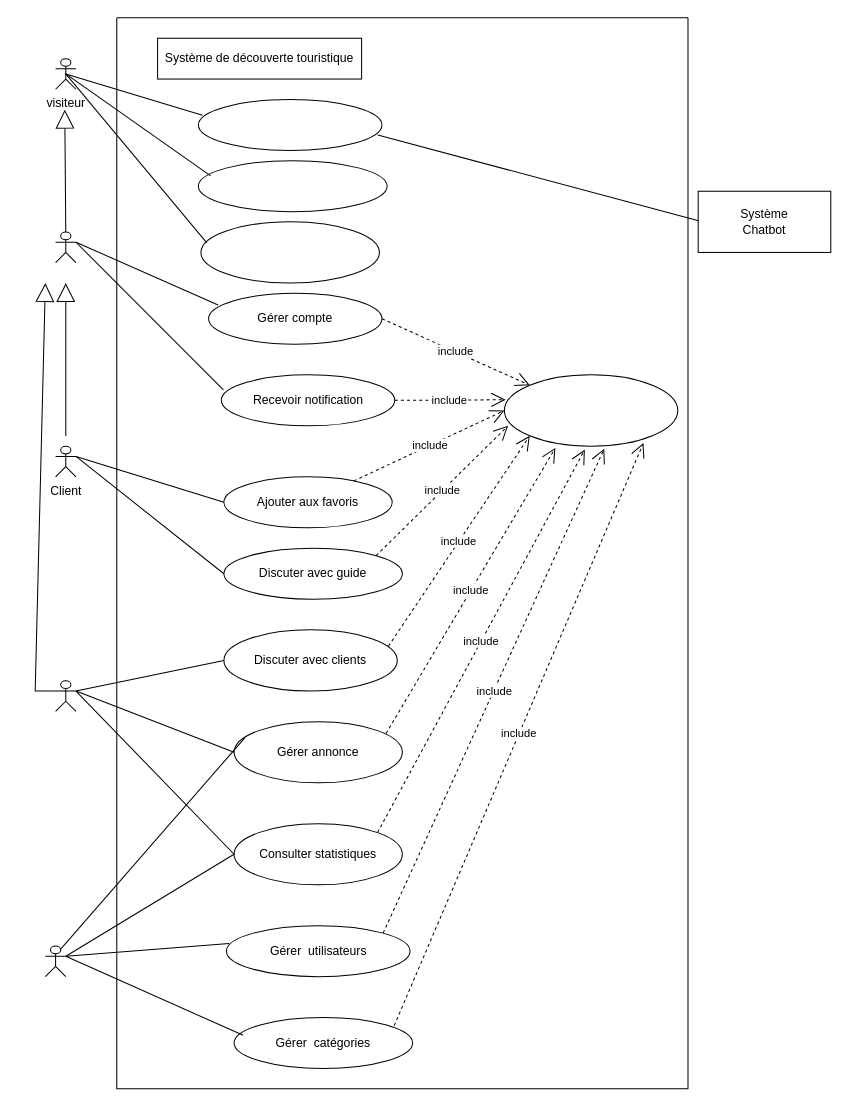
Some shapes in this 849 by 1107 pixel diagram are drawn without their labels. The centre of each missing label's shape, as x and y in pixels:
Admin: [55,961]
Consulter les lieux: [289,252]
Créer un compte: [292,186]
Guide touristique: [65,695]
Interagir avec chatbot: [289,124]
s'authentifier: [590,410]
utilisateur: [65,247]
